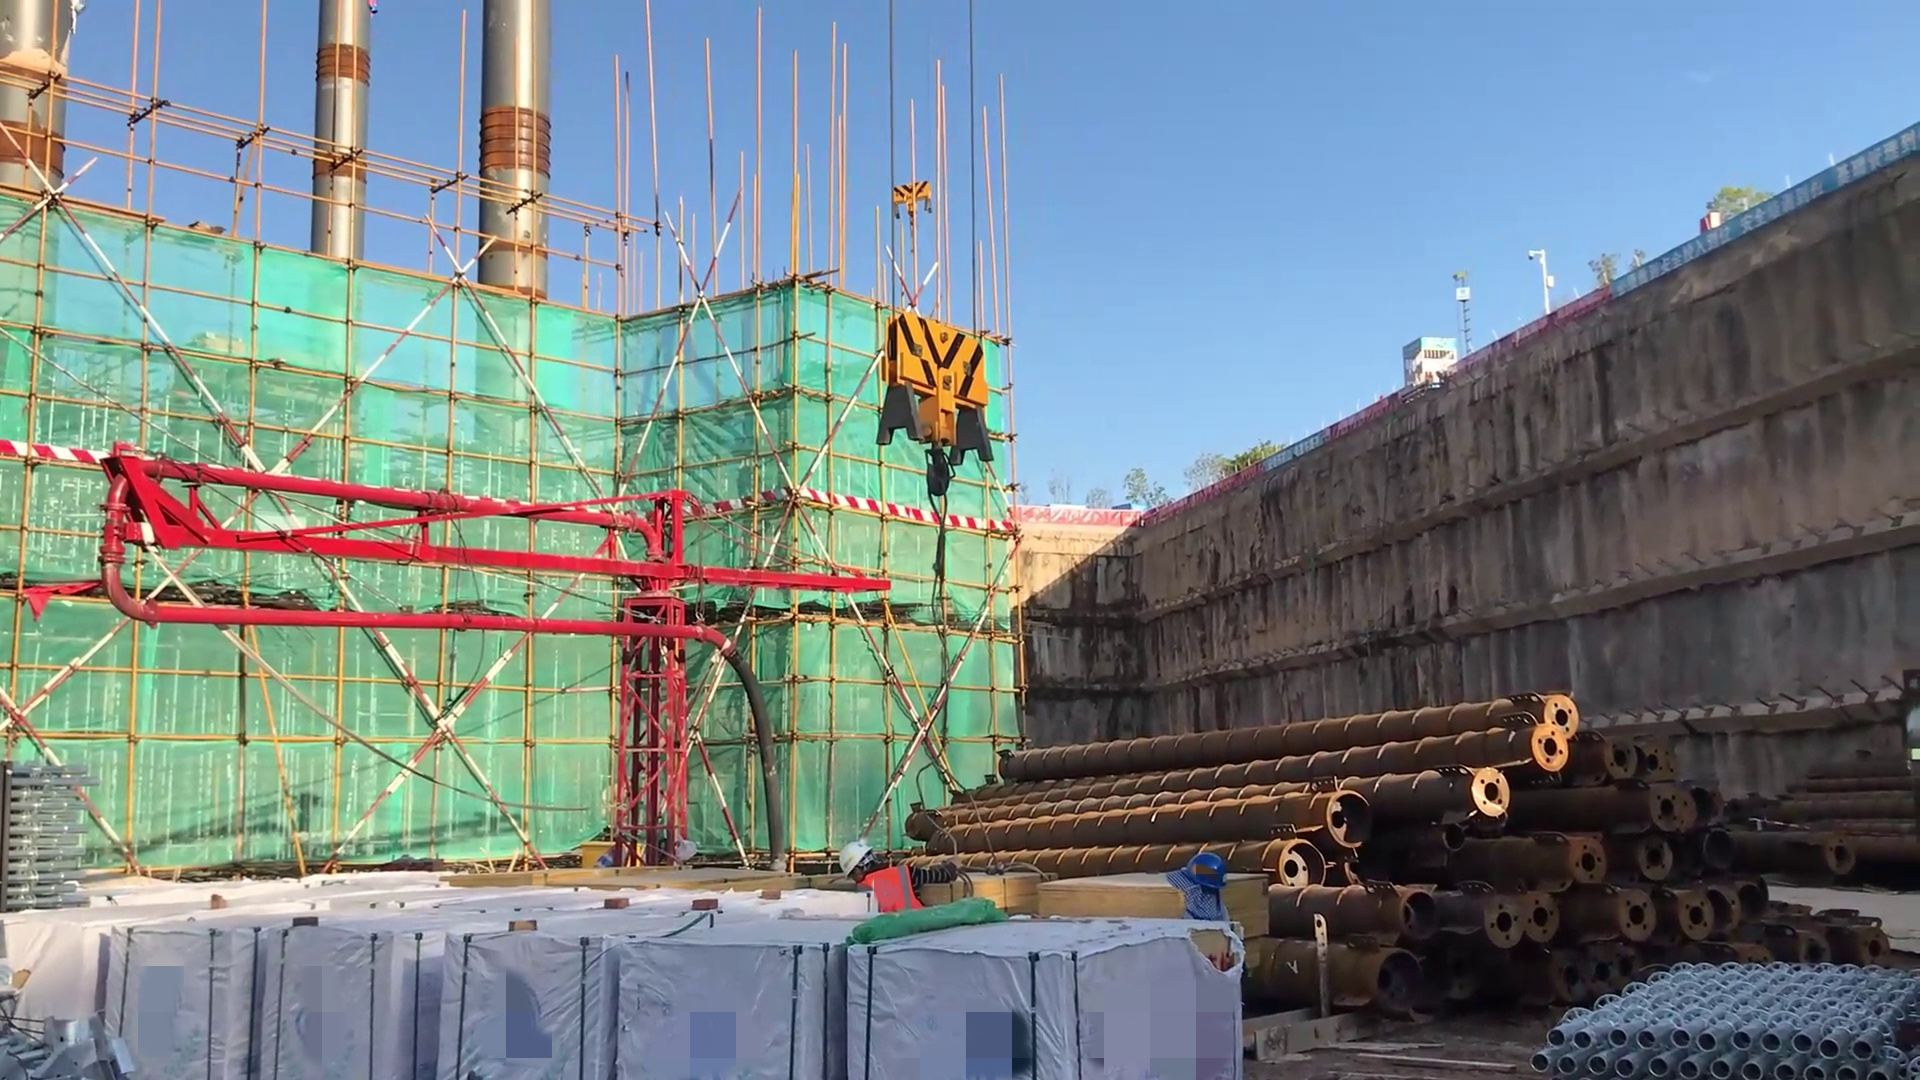board: (1027, 863, 1266, 943), (953, 869, 1061, 918)
ebox: (573, 832, 644, 889)
helmet: (1176, 848, 1233, 905), (830, 836, 886, 891)
hook: (862, 292, 1012, 556), (877, 166, 961, 228)
person: (822, 827, 964, 926)
scaffold: (1538, 944, 1911, 1080), (1, 762, 148, 906)
slogan: (1608, 108, 1920, 306), (1265, 431, 1333, 484)
vest: (849, 864, 930, 912)
